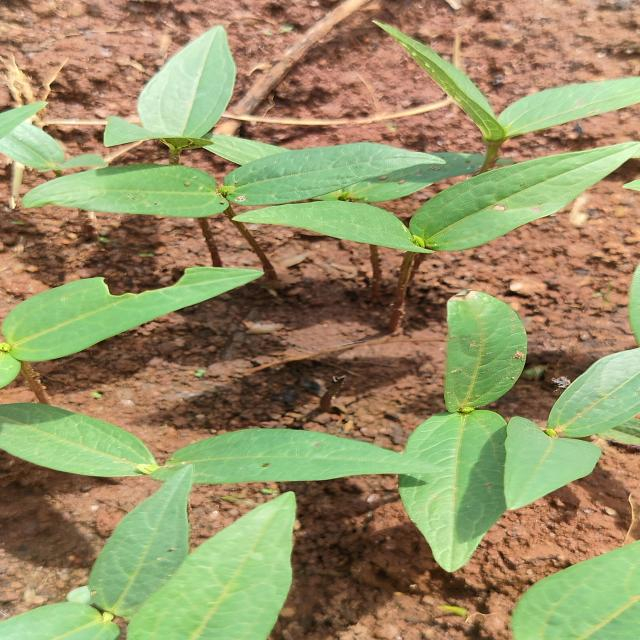Black gram_healthy: (412, 140, 640, 244), (406, 413, 520, 566), (145, 429, 445, 484), (134, 23, 233, 148), (23, 165, 247, 220)
